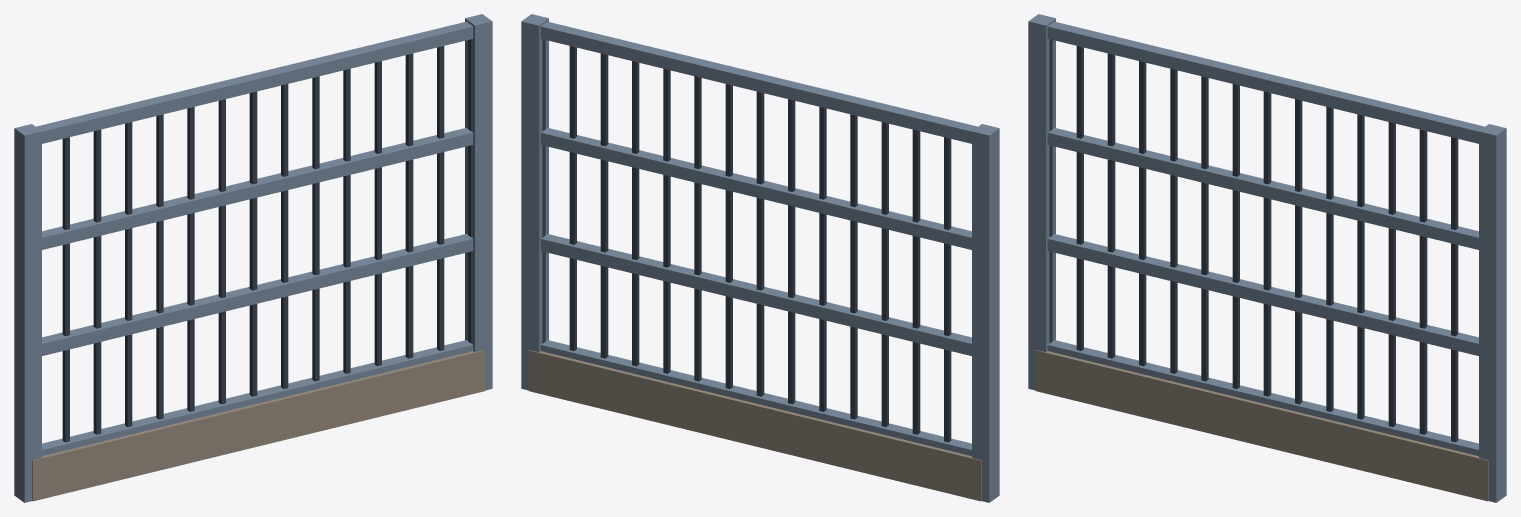
The model's file is catchFence.glb.
3 renders of one model, left to right at view 1: azimuth 30°, elevation 25°; view 2: azimuth 150°, elevation 25°; view 3: azimuth 330°, elevation 25°, orthographic.
Parts seen in each view (by area): view 1: catchFence_steel, catchFence_steelDark, catchFence_concreteDark; view 2: catchFence_steel, catchFence_steelDark, catchFence_concreteDark; view 3: catchFence_steel, catchFence_steelDark, catchFence_concreteDark.
Boxes of the visible parts, box(x1,y1,x2,y2) form: catchFence_steel: box(14, 14, 492, 502); catchFence_steelDark: box(62, 39, 471, 442); catchFence_concreteDark: box(32, 350, 485, 501); catchFence_steel: box(521, 14, 999, 502); catchFence_steelDark: box(542, 39, 951, 442); catchFence_concreteDark: box(528, 350, 981, 501); catchFence_steel: box(1028, 14, 1506, 502); catchFence_steelDark: box(1049, 39, 1458, 442); catchFence_concreteDark: box(1035, 350, 1488, 501).
Bounding box in the file's own units: 12 × 9 × 0.5.
